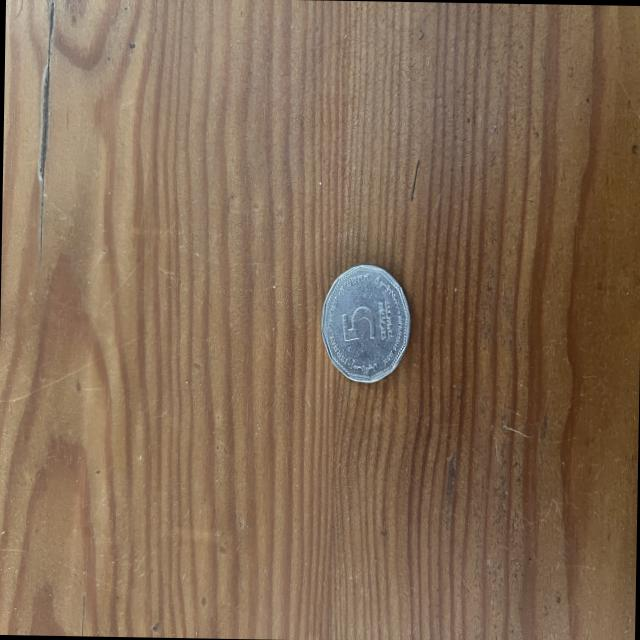5-shekel: (316, 266, 411, 387)
